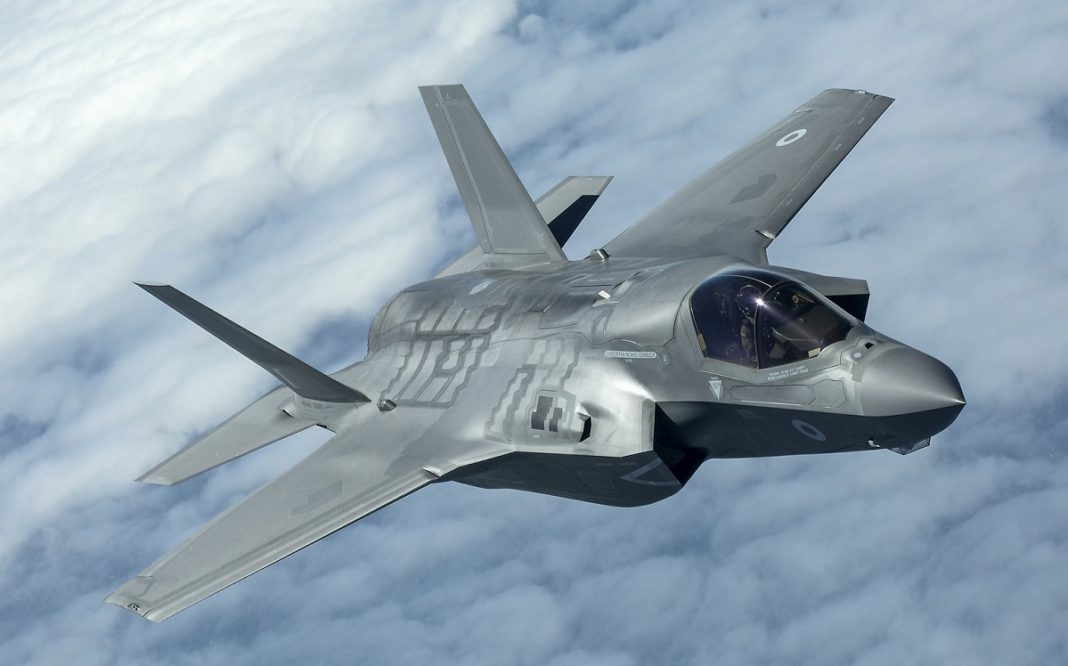Aeronef_militaire: (89, 78, 984, 627)
